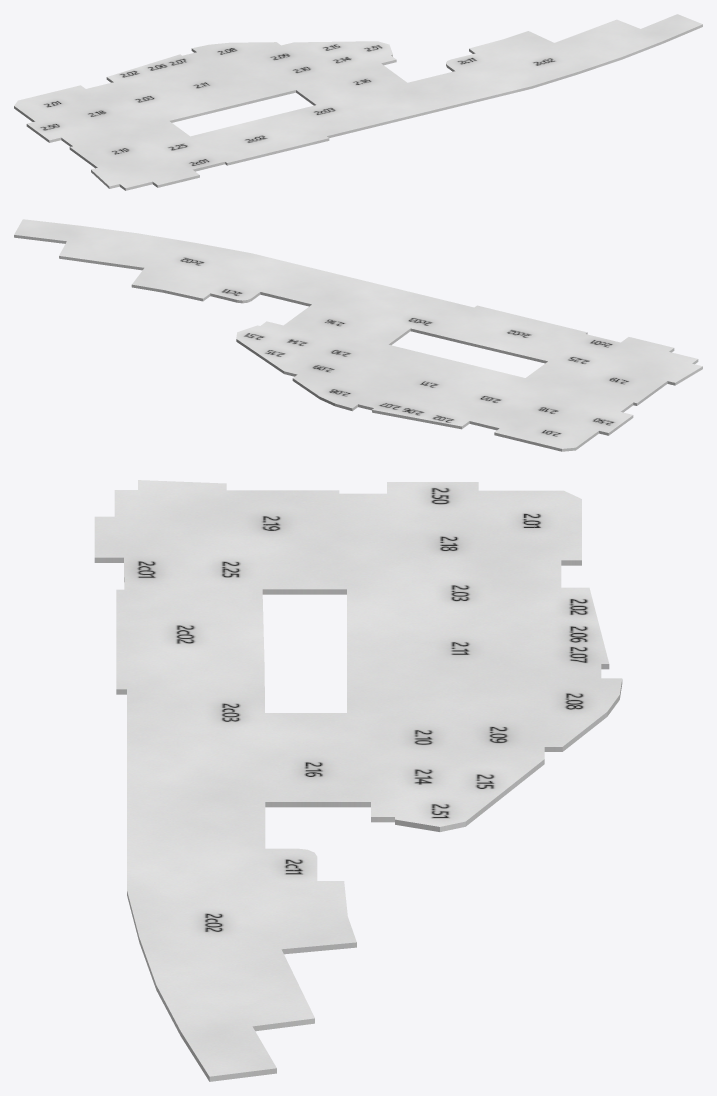
File: floor-2.obj
3 views of the same model, one above another, from view 1: azimuth 30°, elevation 25°; view 2: azimuth 150°, elevation 25°; view 3: azimuth 270°, elevation 25° (orthographic). The views are drawn at different scales.
Visible parts, largest first — view 1: Floor; view 2: Floor; view 3: Floor.
Boxes of the visible parts, bbox=[...] form: Floor: bbox=[14, 14, 702, 190]; Floor: bbox=[14, 219, 702, 451]; Floor: bbox=[94, 480, 622, 1081].
Size of the model in its own units: 73.36 by 0.3 by 27.42.
